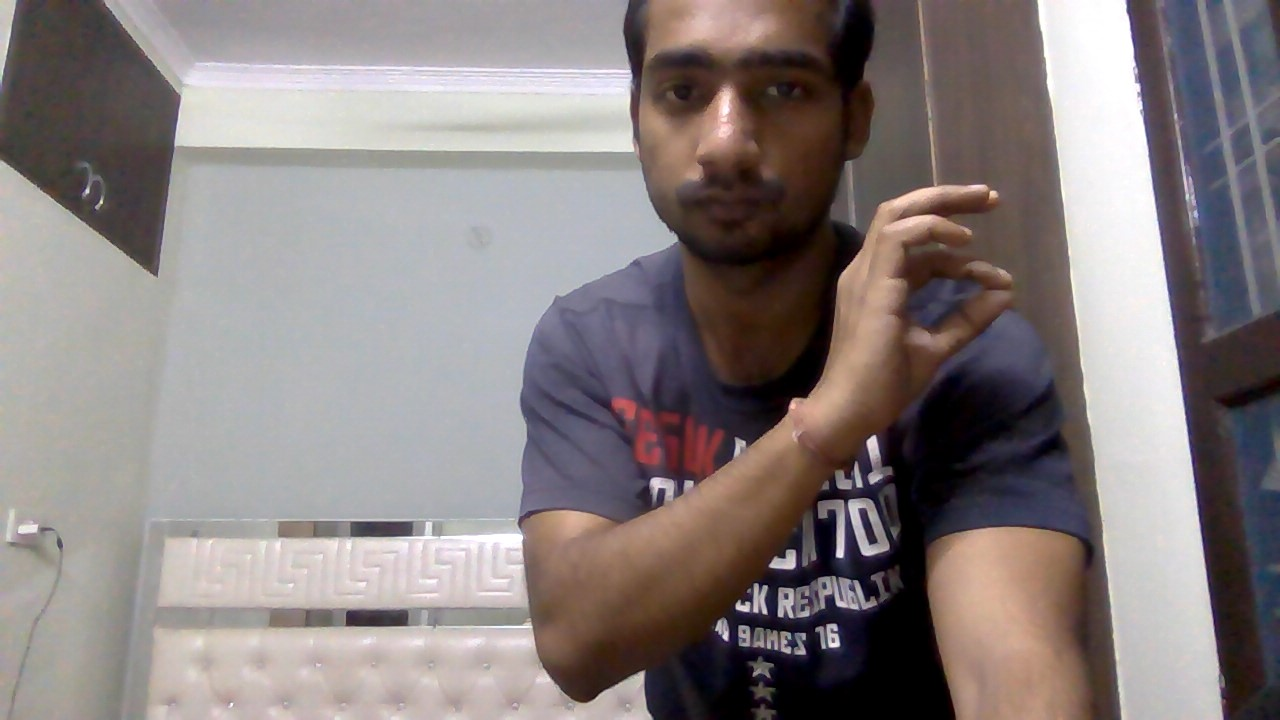Copy: (811, 178, 1031, 450)
